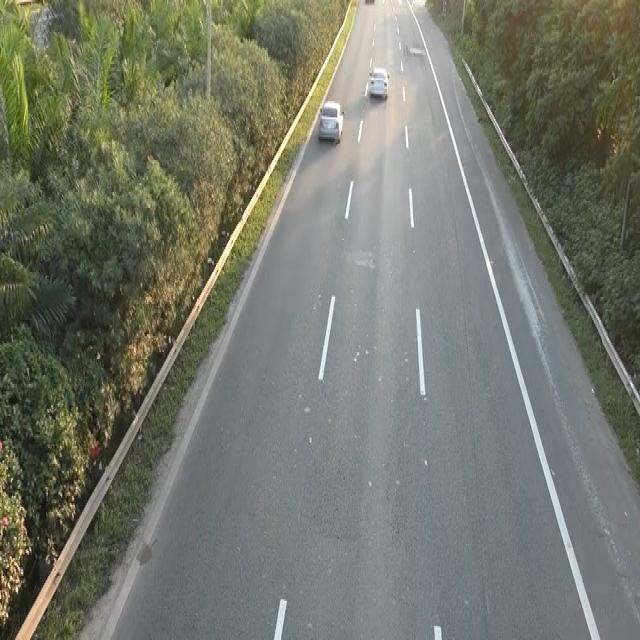bus: (317, 98, 345, 144)
